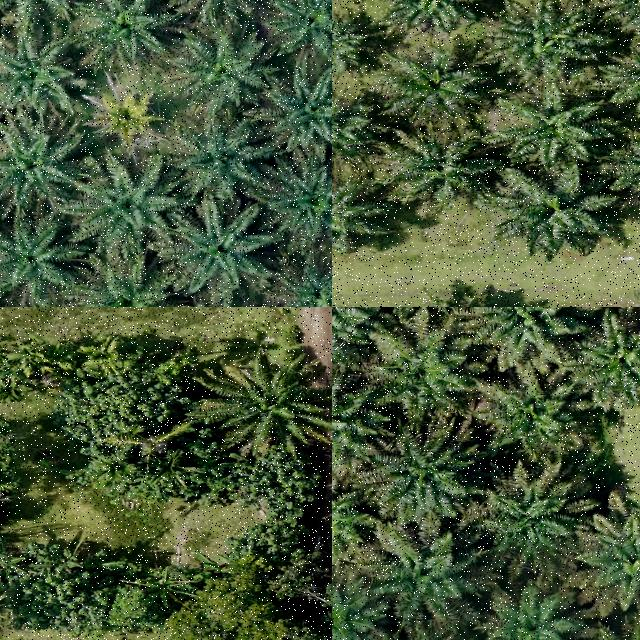Ganoderma: (96, 88, 158, 145)
